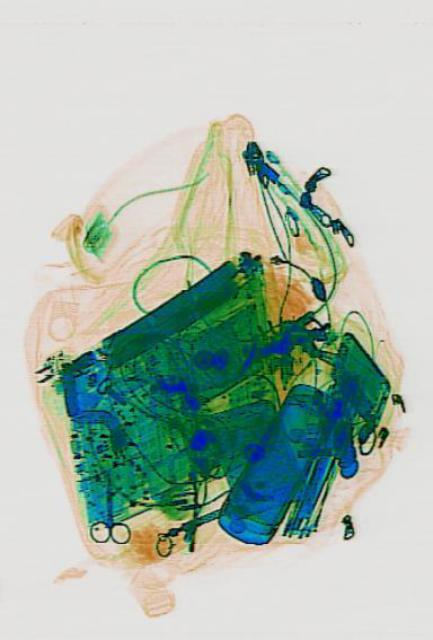Scissors: (87, 470, 128, 544)
